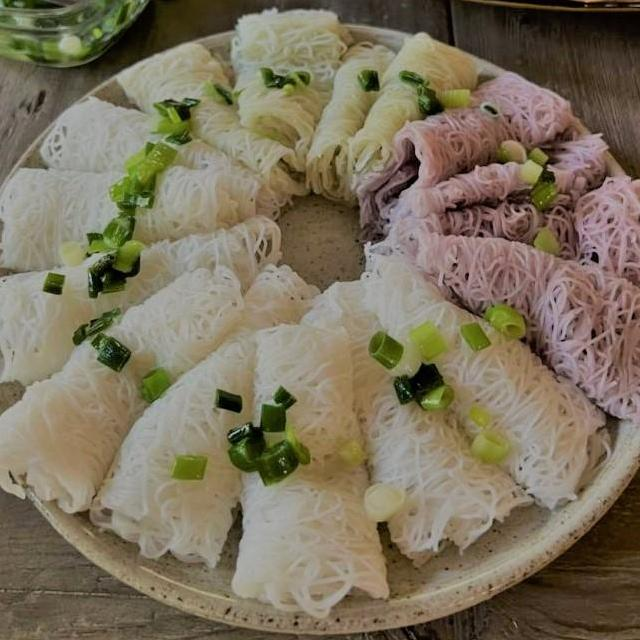banh hoi: (85, 258, 327, 574), (294, 272, 540, 574), (349, 246, 616, 516), (0, 258, 253, 516), (354, 221, 640, 436), (0, 208, 289, 400), (226, 312, 396, 626), (348, 65, 583, 234), (359, 168, 640, 303), (32, 90, 302, 226), (107, 36, 320, 208), (352, 125, 617, 244), (0, 156, 246, 278), (328, 29, 489, 214), (223, 0, 361, 180), (300, 34, 406, 208)
